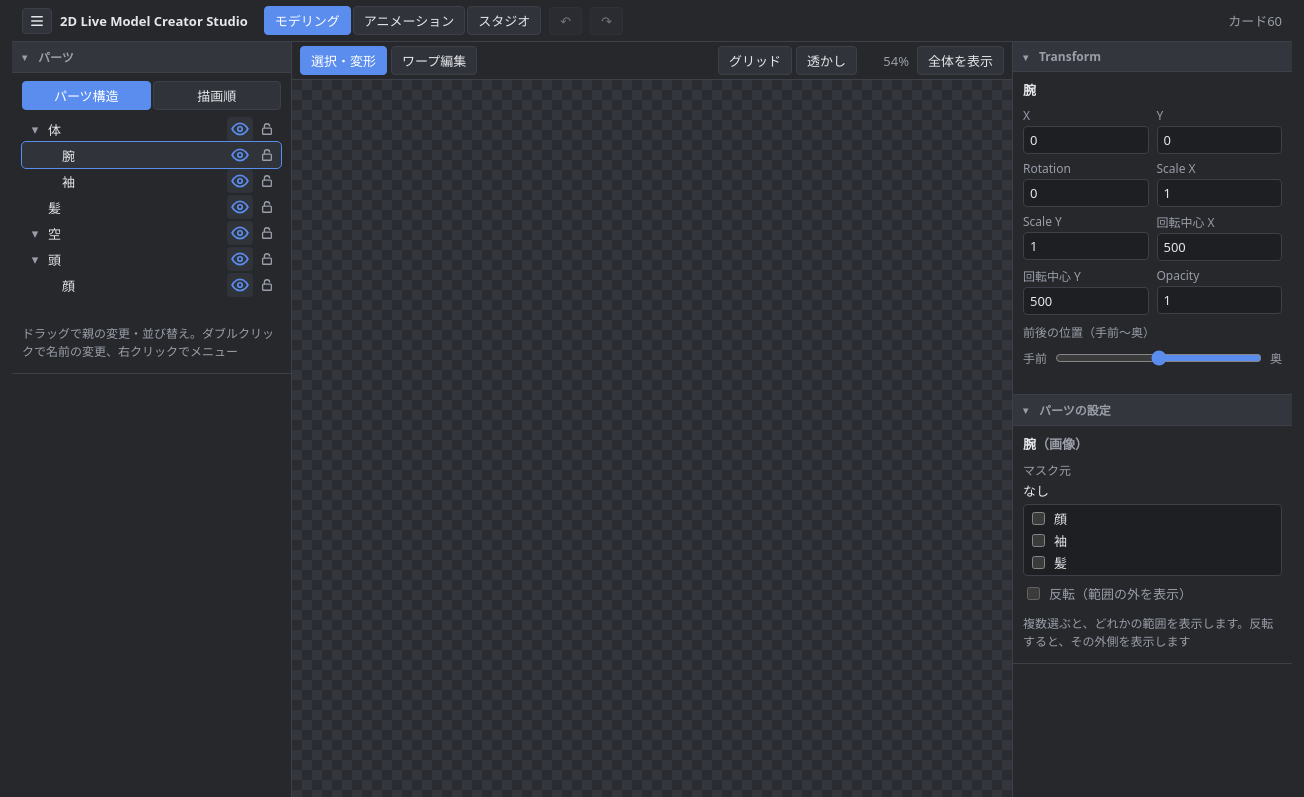
Test: カード60: ワープのツールを選んだときの案内 › 画像を選ぶと直接追加でき、対象を変える欄で親も選べる
Click the button "ワープ編集": (434, 60) [391,46,477,75]
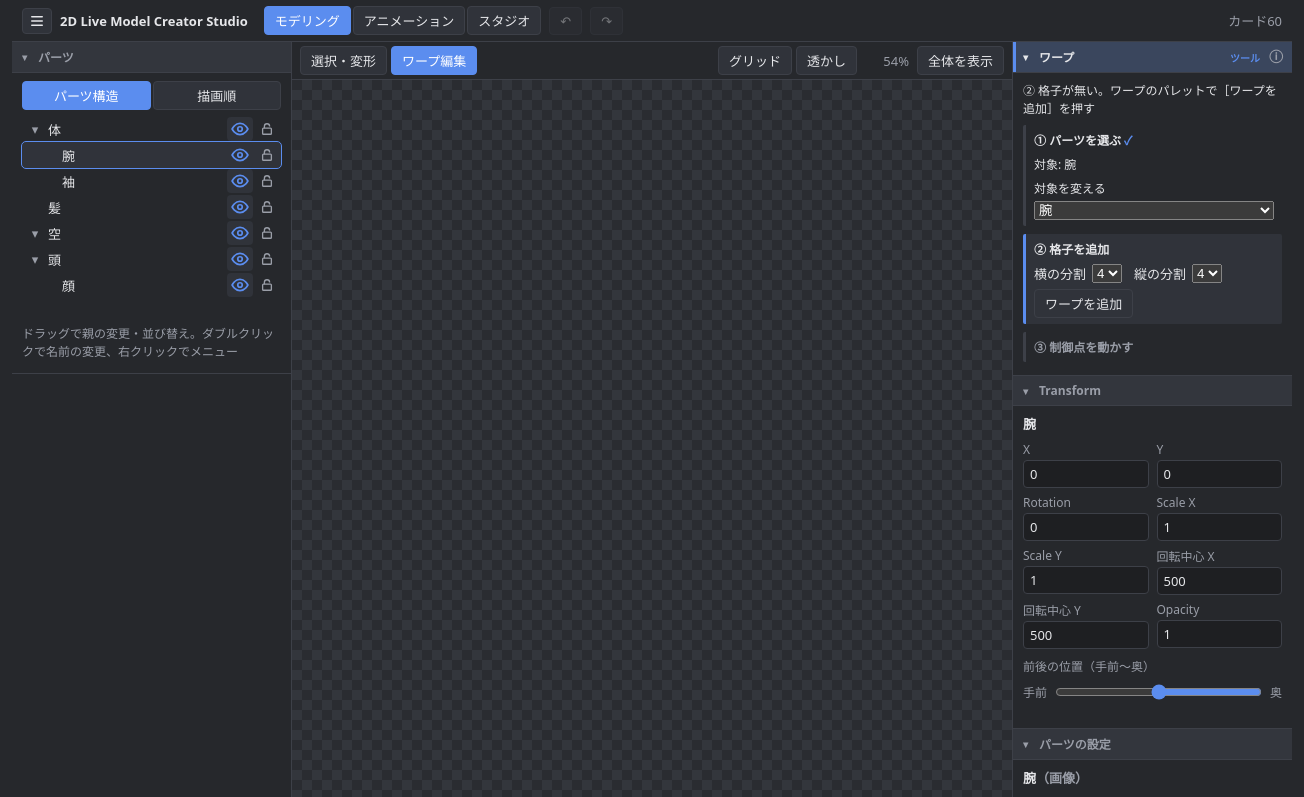
expect the text "② 格子が無い。ワープのパレットで［ワープを追加］を押す" is shown: met, box [1023,81,1282,117]
Select "体" in the dropdown labelled "対象を変える": (1154, 210) [1034,201,1274,220]
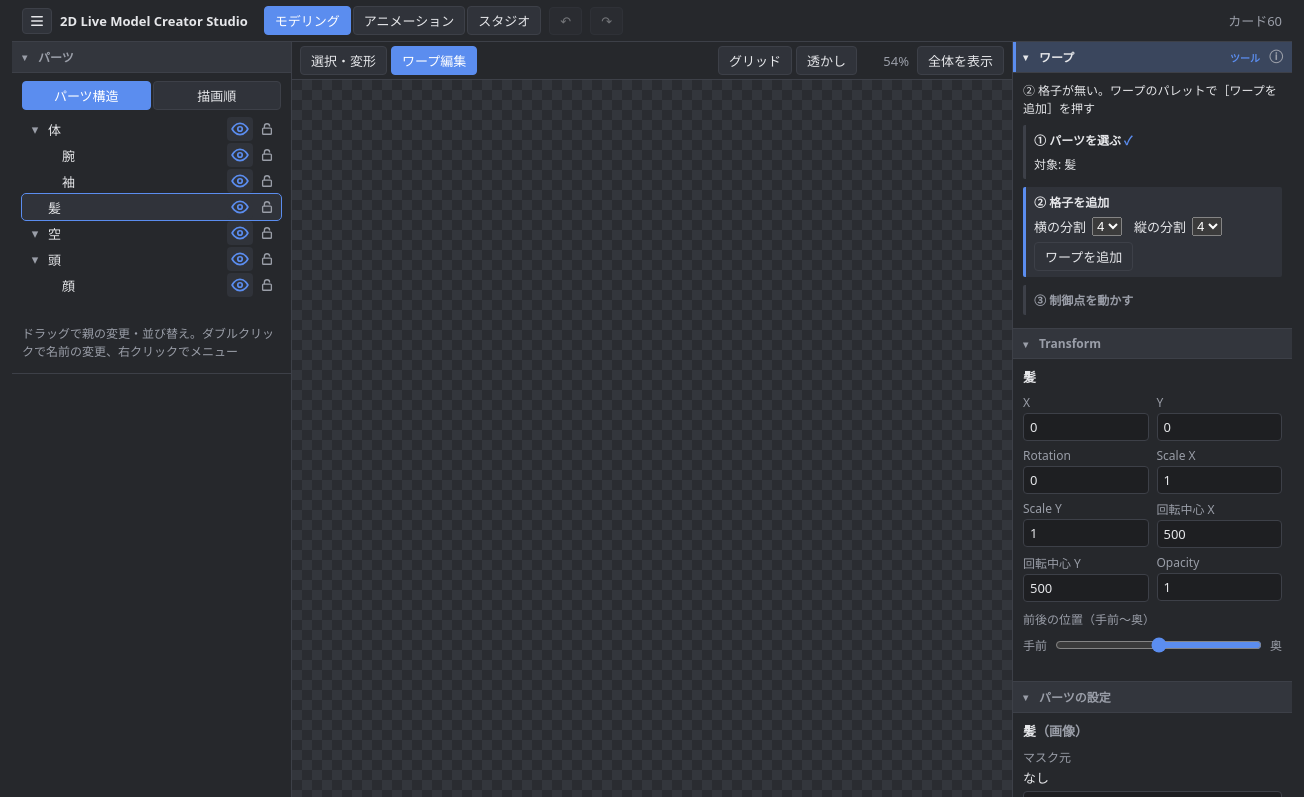
expect the text "② 格子が無い。ワープのパレットで［ワープを追加］を押す" is shown: met, box [1023,81,1282,117]
expect the text "対象: 髪" is shown: met, box [1034,156,1076,173]
